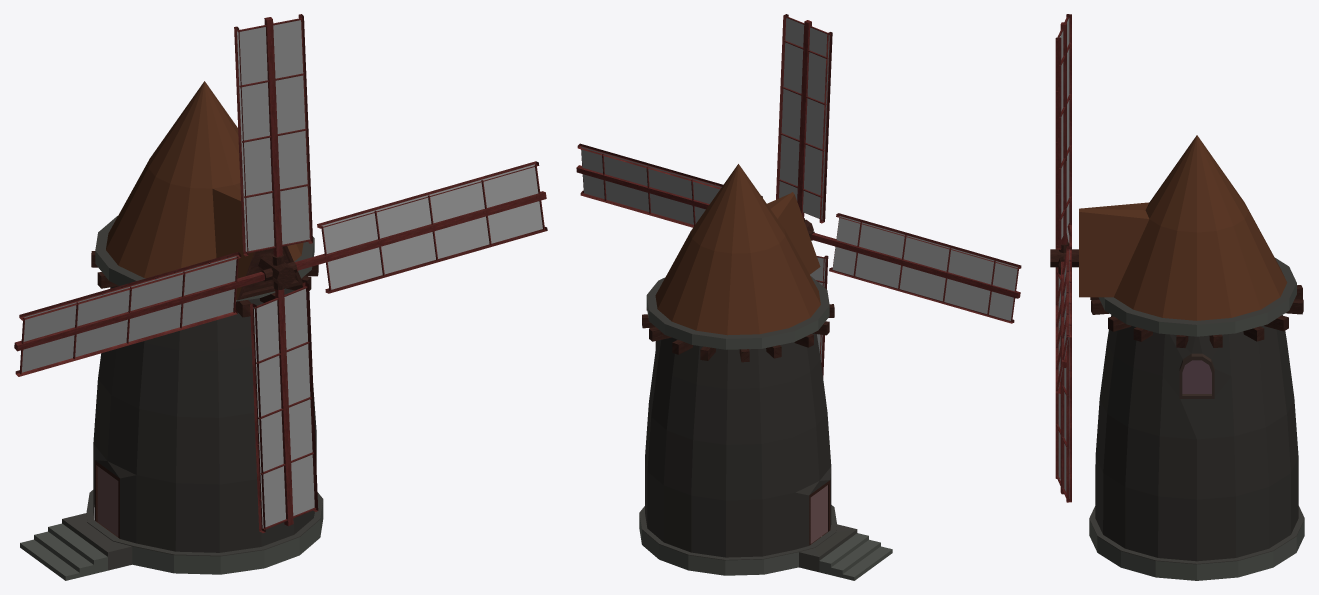
The model's file is windmill.lod1.glb.
3 views of the same model, side by side, from view 1: azimuth 30°, elevation 25°; view 2: azimuth 150°, elevation 25°; view 3: azimuth 270°, elevation 25° (orthographic). The views are drawn at different scales.
Parts seen in each view (by area): view 1: Object_4, Object_35, Object_20; view 2: Object_4, Object_35, Object_20; view 3: Object_4, Object_35, Object_20.
Part boxes in pixels (x1=…): Object_4: x1=20, y1=20, x2=542, y2=580; Object_35: x1=14, y1=14, x2=547, y2=532; Object_20: x1=91, y1=246, x2=318, y2=538; Object_4: x1=581, y1=18, x2=1017, y2=580; Object_35: x1=576, y1=14, x2=1021, y2=377; Object_20: x1=642, y1=218, x2=834, y2=545; Object_4: x1=1058, y1=18, x2=1304, y2=580; Object_35: x1=1055, y1=14, x2=1071, y2=502; Object_20: x1=1050, y1=242, x2=1303, y2=347.
Bounding box in the file's own units: 11.81 × 12 × 5.46.
3 materials, 2 textured.
